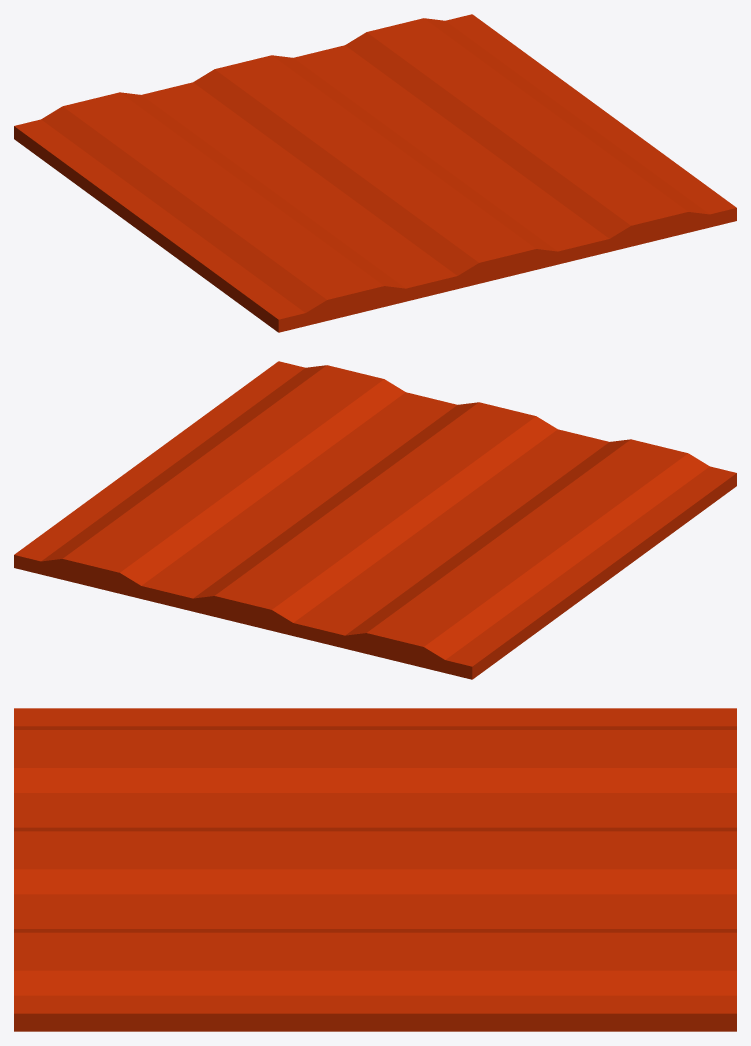
Rendered from Prop_Industrial_Sheet_Corrugated_No_Back_01.FBX.
The picture shows the model from 3 angles, top to bottom: view 1: azimuth 30°, elevation 25°; view 2: azimuth 150°, elevation 25°; view 3: azimuth 270°, elevation 25°; orthographic projection. The views are drawn at different scales.
Visible parts, largest first — view 1: Prop_Industrial_Sheet_Corrugated_No_Back_01; view 2: Prop_Industrial_Sheet_Corrugated_No_Back_01; view 3: Prop_Industrial_Sheet_Corrugated_No_Back_01.
Part boxes in pixels (x1,y1,x2,y2): Prop_Industrial_Sheet_Corrugated_No_Back_01: (14, 14, 736, 332); Prop_Industrial_Sheet_Corrugated_No_Back_01: (14, 361, 736, 679); Prop_Industrial_Sheet_Corrugated_No_Back_01: (14, 708, 736, 1031).
Bounding box in the file's own units: 2000 × 87.5 × 2000.
